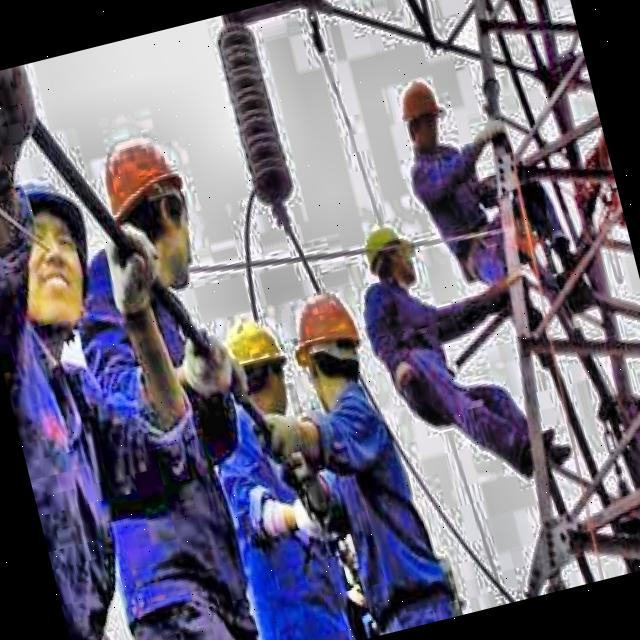helmet: (90, 116, 213, 288), (0, 157, 111, 347), (280, 280, 376, 416), (213, 298, 302, 423), (392, 73, 454, 160), (352, 214, 420, 292)
